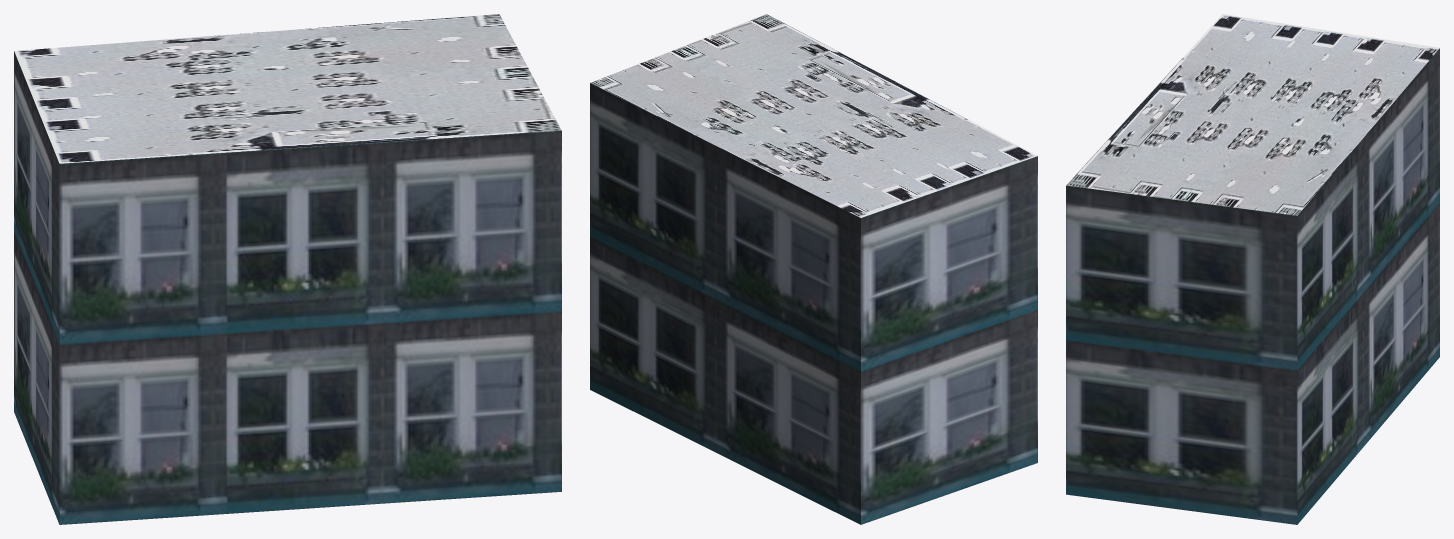
File: ResTex__403.fbx
The picture shows the model from 3 angles, left to right: view 1: azimuth 30°, elevation 25°; view 2: azimuth 150°, elevation 25°; view 3: azimuth 270°, elevation 25°; orthographic projection. The views are drawn at different scales.
Visible parts, largest first — view 1: CityEngineMaterial_11_m, CityEngineMaterial_8_m; view 2: CityEngineMaterial_11_m, CityEngineMaterial_8_m; view 3: CityEngineMaterial_11_m, CityEngineMaterial_8_m.
Boxes of the visible parts, <box> form: CityEngineMaterial_11_m: <box>14,51,561,524</box>; CityEngineMaterial_8_m: <box>14,14,561,163</box>; CityEngineMaterial_11_m: <box>590,83,1037,524</box>; CityEngineMaterial_8_m: <box>591,14,1037,217</box>; CityEngineMaterial_11_m: <box>1066,48,1439,524</box>; CityEngineMaterial_8_m: <box>1066,14,1439,215</box>.
Bounding box in the file's own units: 8.4 × 6 × 6.58.
Materials: 2 (2 with a texture image).
